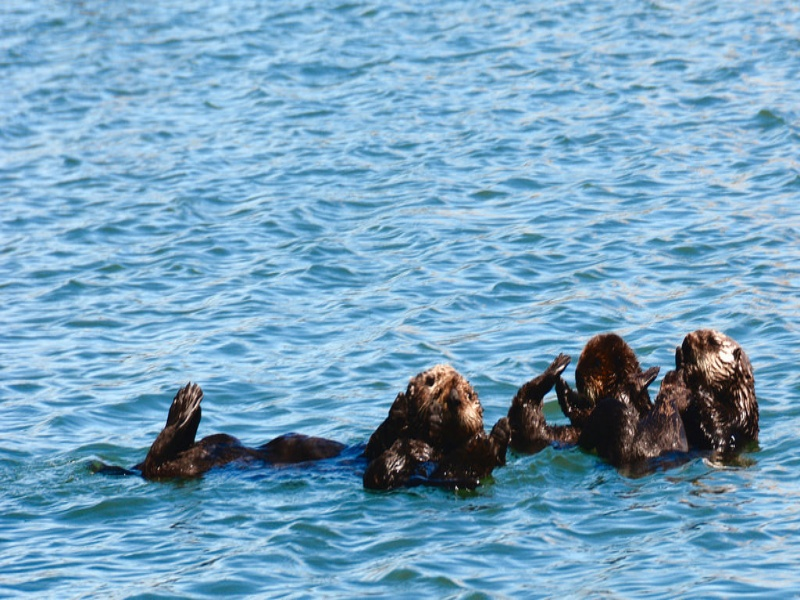minkish: (130, 365, 487, 491), (513, 327, 770, 471)
